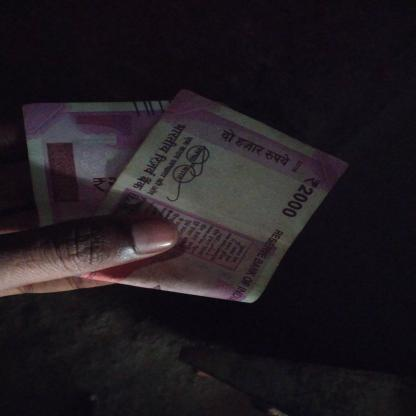New2000Back: (106, 99, 331, 299)
